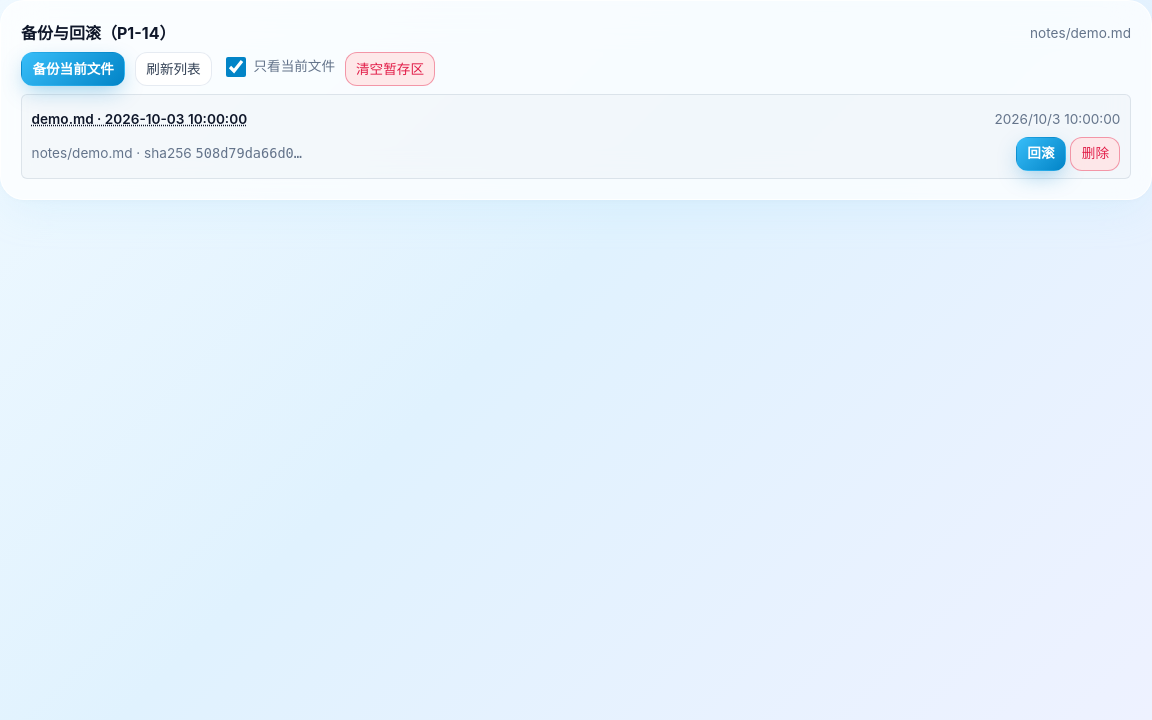
回滚与哈希一致性 › 写盘后内容与备份哈希不一致时显示红标
Click the button with test id "rollback-btn-ws_rec_1".
click(1041, 154)  # box [1016,137,1066,171]
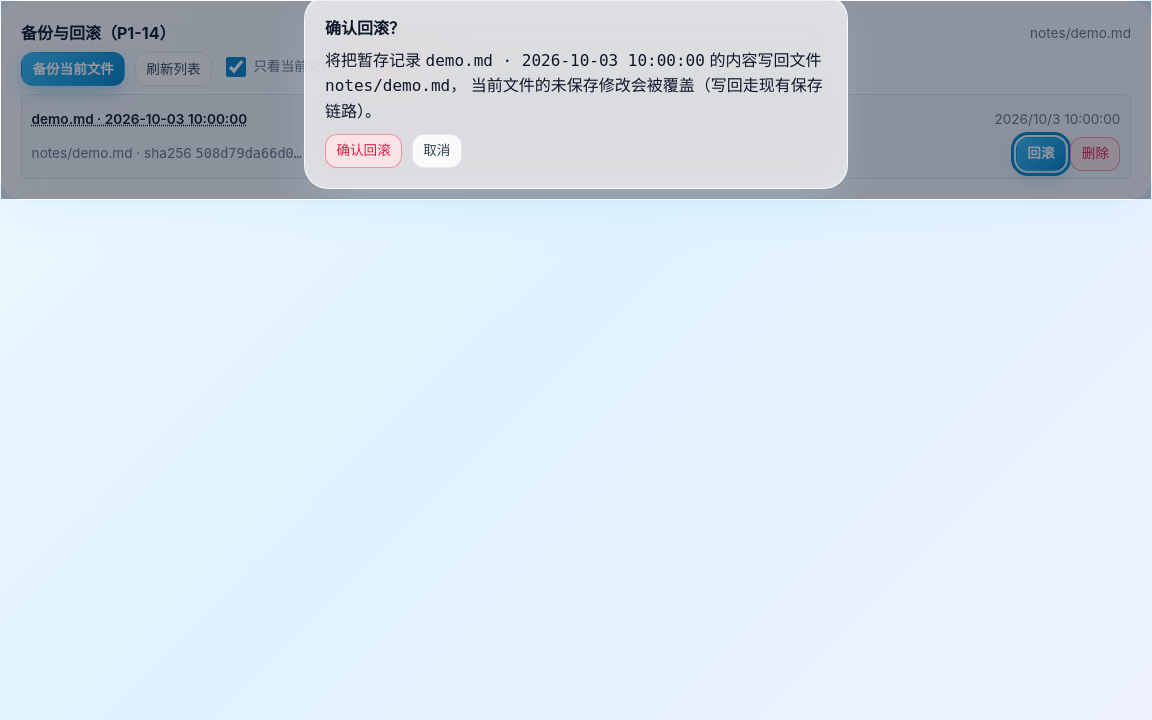
Click the button with test id "confirm-rollback-btn".
click(364, 151)  # box [325,134,402,168]
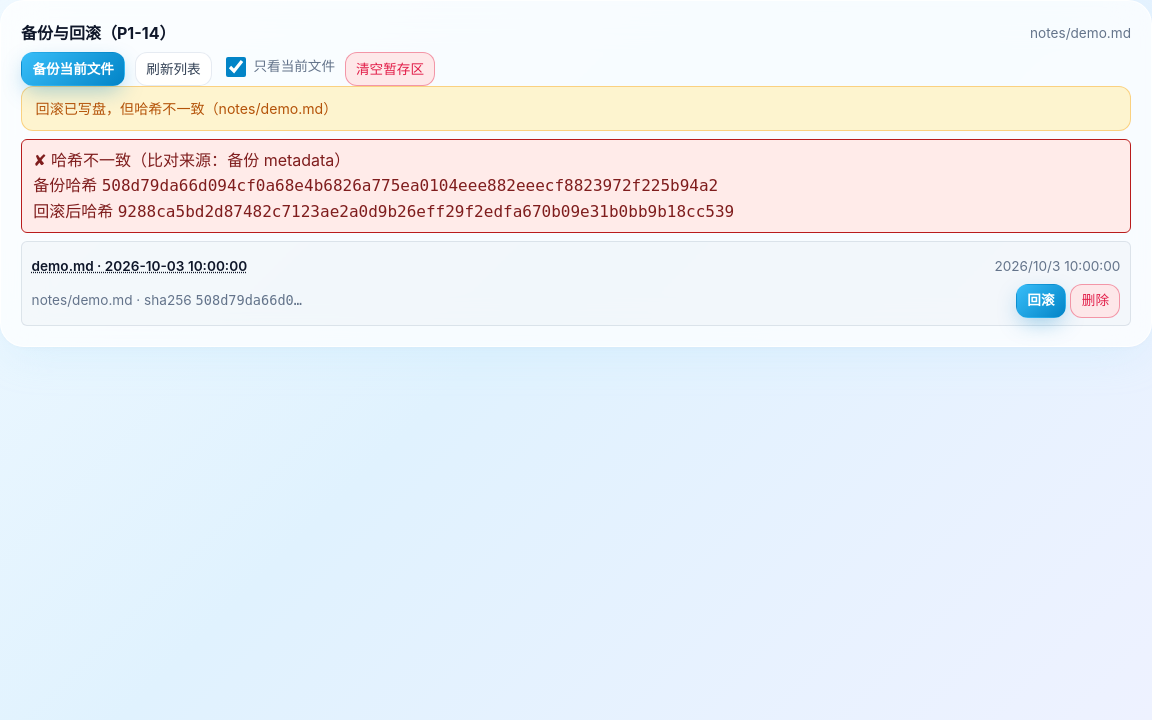
expect the text with test id "verify-current-hash" does not show "508d79da66d094cf0a68e4b6826a775ea0104eee882eeecf8823972f225b94a2": met, box [118,202,734,221]
expect the message with test id "hash-mismatch" is shown: met, box [21,139,1131,233]
expect the message with test id "backup-notice" shows "哈希不一致": met, box [36,100,337,117]
